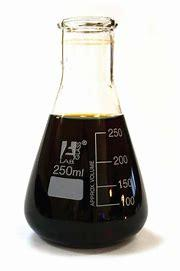Titrarion: (18, 17, 148, 250)
